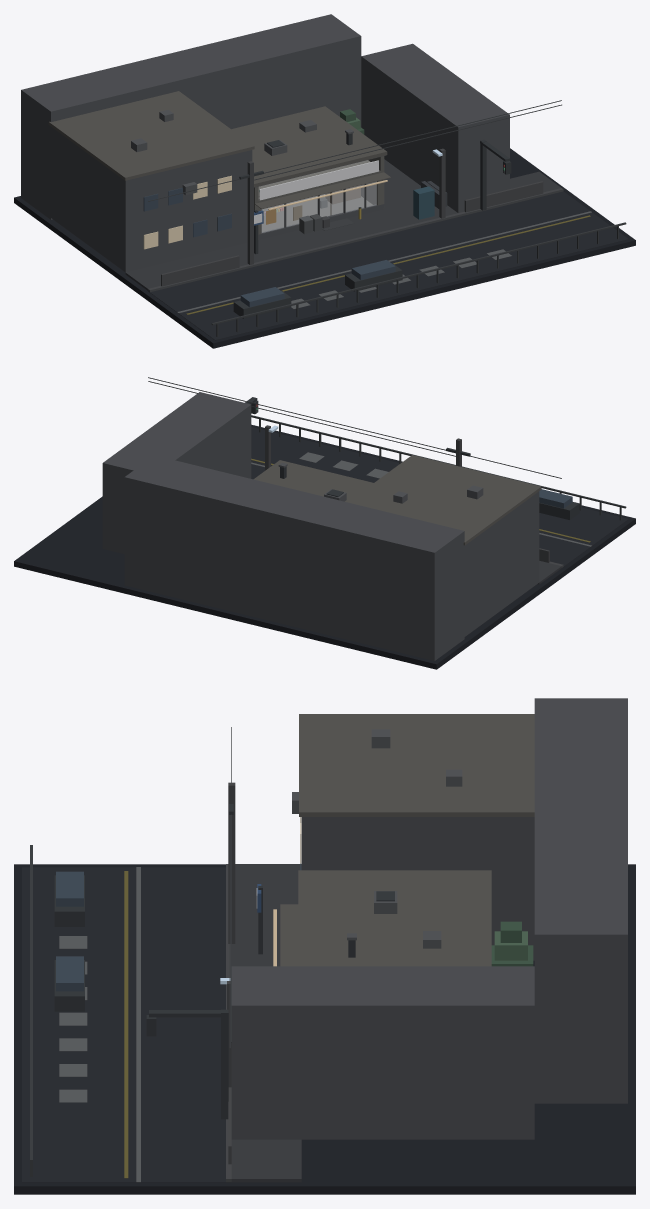
The model's file is conbini.glb.
The picture shows the model from 3 angles, top to bottom: view 1: azimuth 30°, elevation 25°; view 2: azimuth 150°, elevation 25°; view 3: azimuth 270°, elevation 25°; orthographic projection. The views are drawn at different scales.
Visible parts, largest first — view 1: Web_Conbini, Glass_West, Glass_East; view 2: Web_Conbini; view 3: Web_Conbini.
Part boxes in pixels (x1=…): Web_Conbini: x1=14, y1=14, x2=635, y2=348; Glass_West: x1=262, y1=196, x2=317, y2=232; Glass_East: x1=346, y1=181, x2=376, y2=212; Web_Conbini: x1=14, y1=377, x2=635, y2=669; Web_Conbini: x1=14, y1=698, x2=635, y2=1194.
Bounding box in the file's own units: 32.7 × 8.42 × 26.7.
